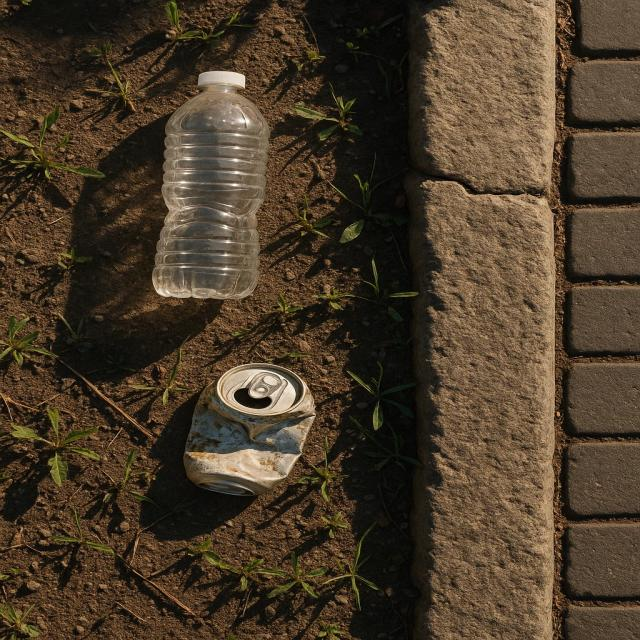aluminum: (189, 362, 316, 498)
plastic: (151, 72, 266, 300)
